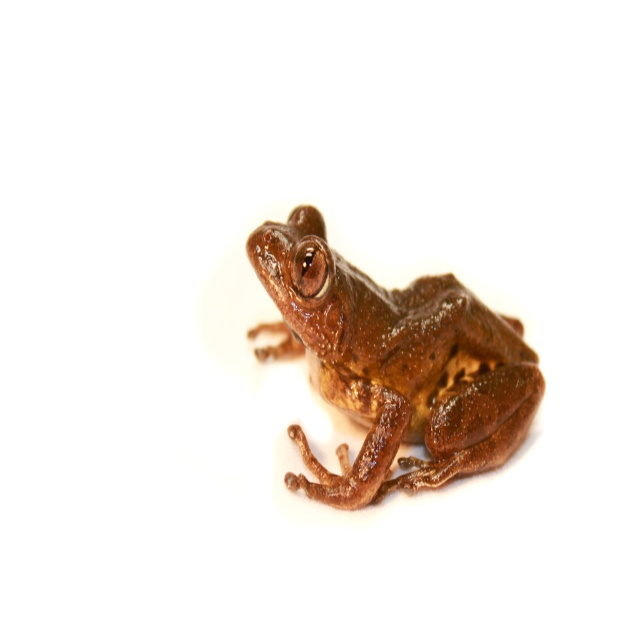Frog: (243, 202, 545, 510)
